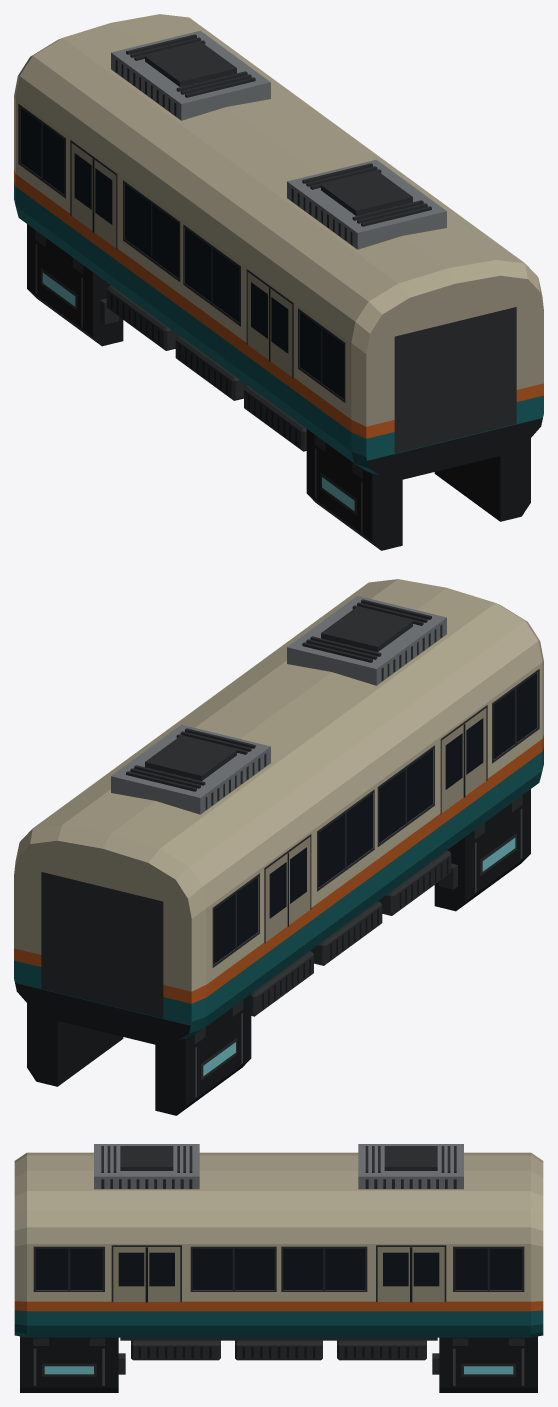
File: wagon.glb
3 views of the same model, one above another, from view 1: azimuth 30°, elevation 25°; view 2: azimuth 150°, elevation 25°; view 3: azimuth 270°, elevation 25° (orthographic). The views are drawn at different scales.
Parts seen in each view (by area): view 1: wagon (×2); view 2: wagon (×2); view 3: wagon (×2).
Boxes of the visible parts, x1,y1,x2,y2 form: wagon (×2): [14, 14, 543, 550]; wagon (×2): [14, 579, 543, 1115]; wagon (×2): [14, 1144, 543, 1392].
Bounding box in the file's own units: 9.58 × 13.19 × 30.08.
